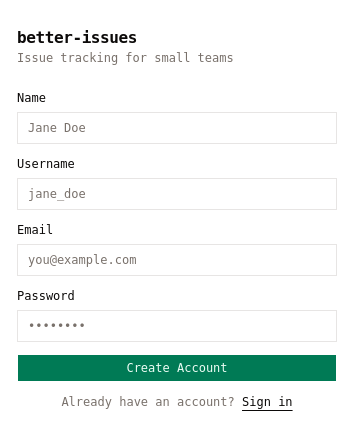
Scenario: sign-up page › surfaces thrown sign-up failures and resets the submitting state
Type "Better Issues" into the field labelled "Name" at (177,128), box [17,112,337,144]
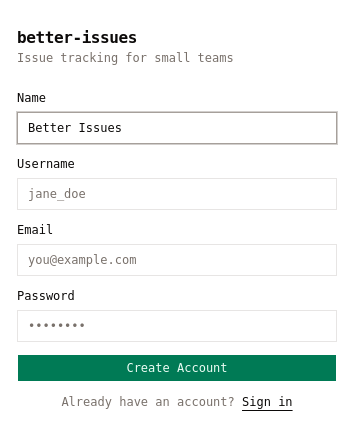
Type "better-issues" into the field labelled "Username" at (177,194), box [17,178,337,210]
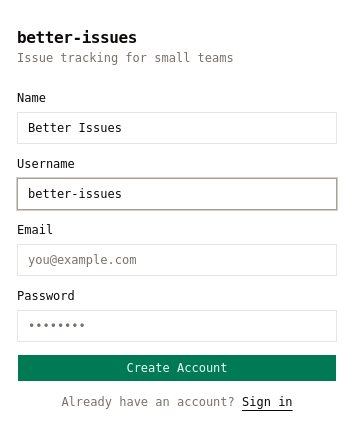
Type "owner@example.com" into the field labelled "Email" at (177,260), box [17,244,337,276]
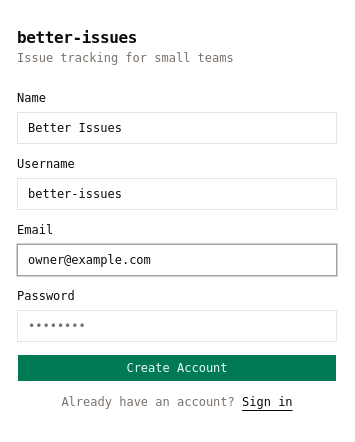
Type "SuperSecret123!" into the password field labelled "Password" at (177,326), box [17,310,337,342]
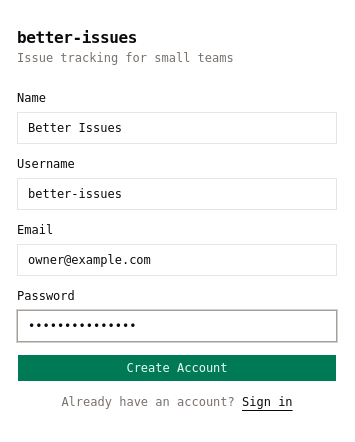
Click the button "Create Account" at (177,368), box [17,354,337,382]
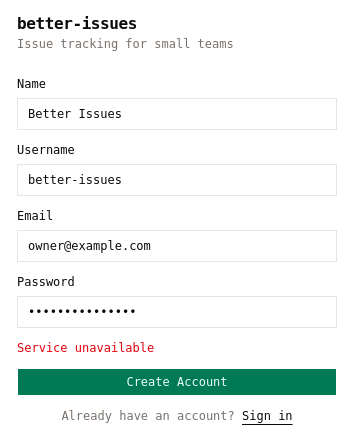
Expected: the button "Create Account" is enabled, [17,368,337,396]
Result: the text "Service unavailable" is shown at [17,341,154,355]
